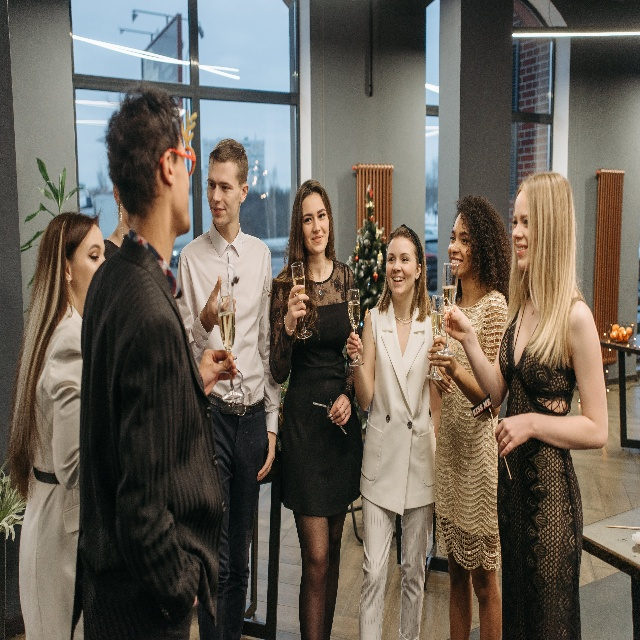Sin_guantes: (200, 347, 237, 395), (205, 275, 237, 326), (494, 414, 531, 456), (443, 303, 473, 346), (255, 430, 277, 480), (427, 335, 455, 372), (287, 284, 310, 325), (430, 366, 453, 395), (330, 396, 350, 426), (346, 332, 364, 363)
